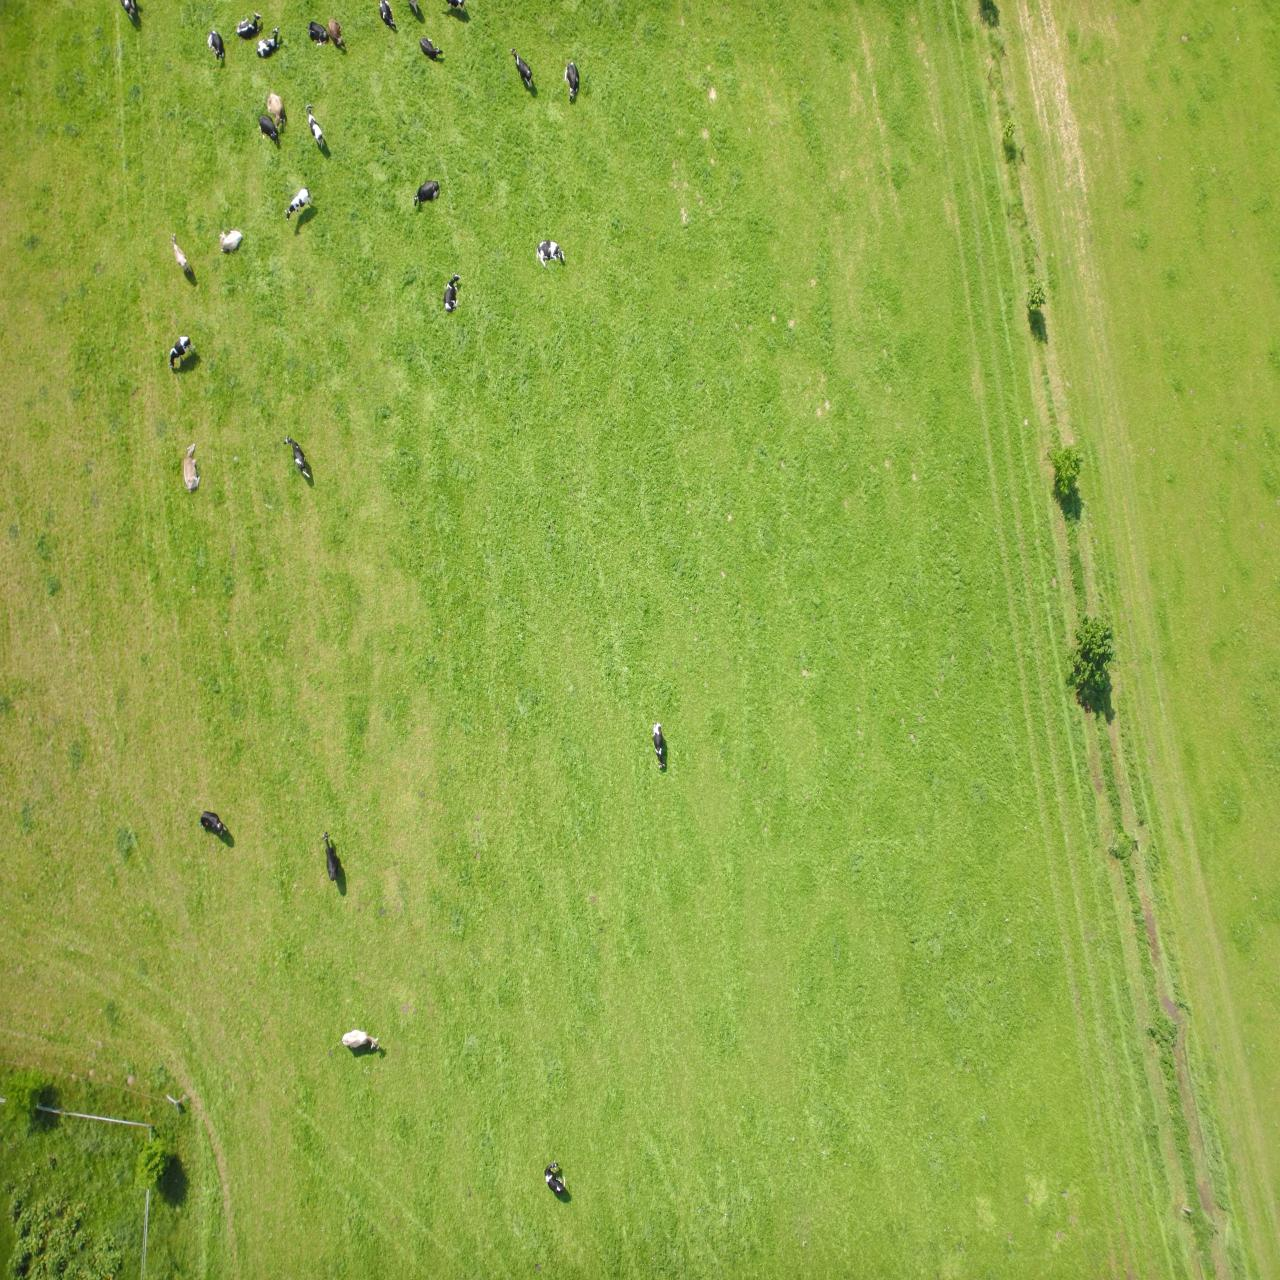cow: (969, 802, 995, 845), (1083, 908, 1111, 945), (1088, 1006, 1110, 1047), (955, 1131, 975, 1177), (748, 1192, 770, 1232), (968, 1058, 995, 1091), (900, 229, 938, 252), (942, 399, 959, 449), (1080, 787, 1096, 837), (999, 1133, 1022, 1166), (1000, 1221, 1023, 1253), (1054, 443, 1081, 470), (715, 1014, 743, 1040), (993, 1149, 1012, 1186), (819, 967, 836, 1008), (840, 1074, 866, 1099), (715, 87, 735, 120), (1037, 1026, 1062, 1051), (614, 510, 627, 557), (1019, 1242, 1043, 1266), (701, 1178, 715, 1219), (934, 1233, 953, 1262), (837, 1219, 860, 1242), (1056, 1219, 1074, 1250), (952, 1234, 972, 1258)
